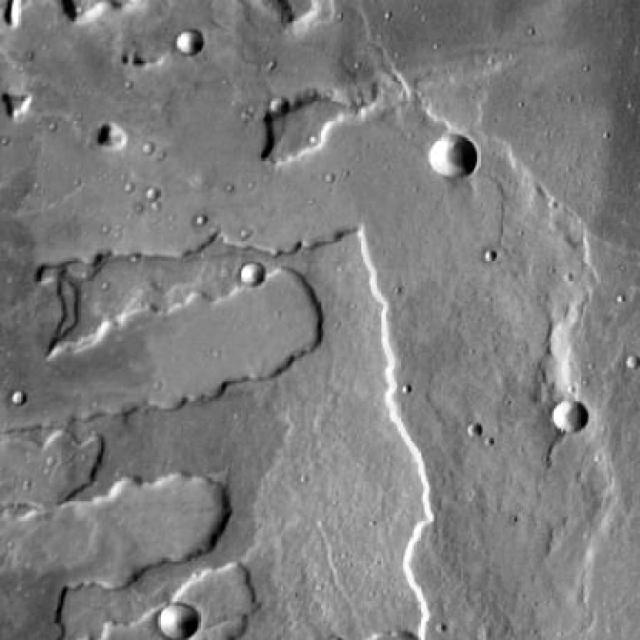crater: (432, 131, 481, 178), (157, 600, 201, 640), (551, 399, 587, 433), (174, 32, 200, 57), (239, 263, 264, 286), (268, 97, 286, 115)
